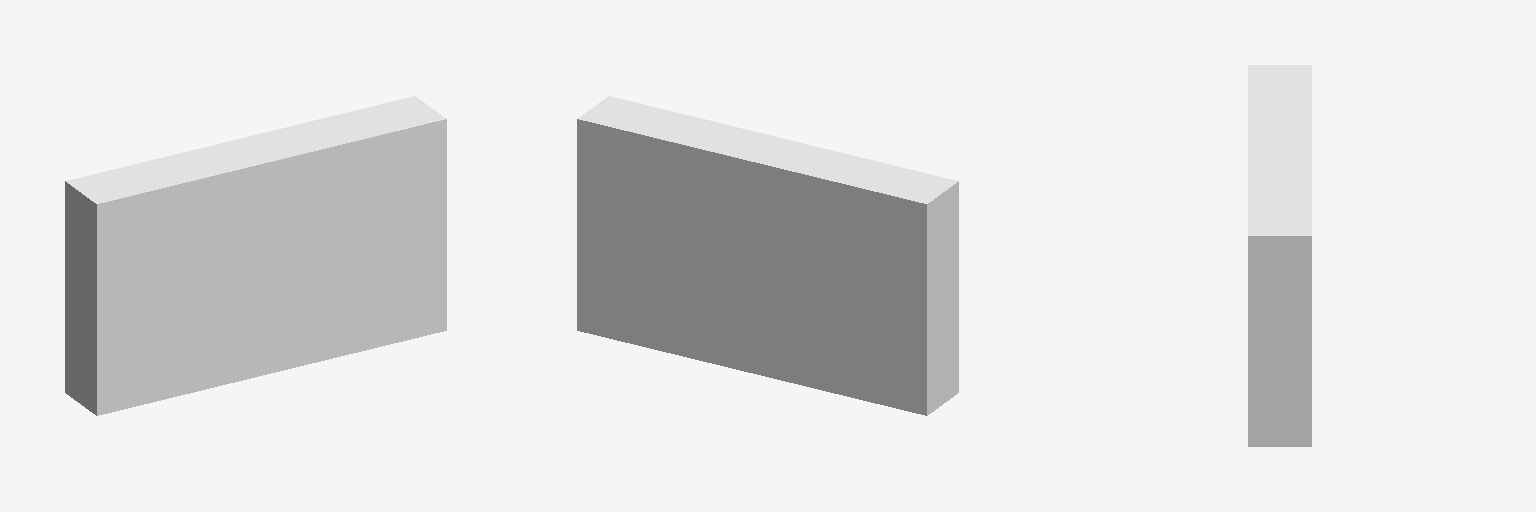
Rendered from Exit.obj.
3 renders of one model, left to right at view 1: azimuth 30°, elevation 25°; view 2: azimuth 150°, elevation 25°; view 3: azimuth 270°, elevation 25°, orthographic.
Parts seen in each view (by area): view 1: object 1; view 2: object 1; view 3: object 1.
Part boxes in pixels (x1,y1,x2,y2): object 1: (65, 96, 446, 415); object 1: (577, 96, 958, 415); object 1: (1248, 65, 1311, 446).
Bounding box in the file's own units: 6.4 × 3.7 × 1.